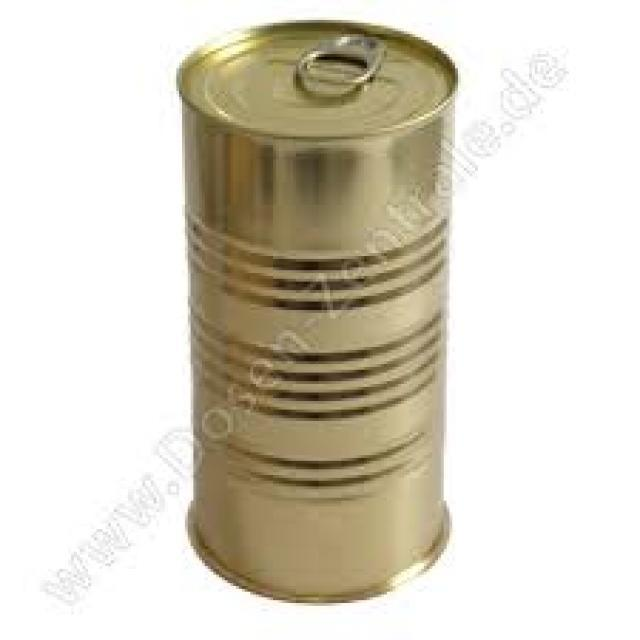recyclable: (176, 17, 459, 606)
